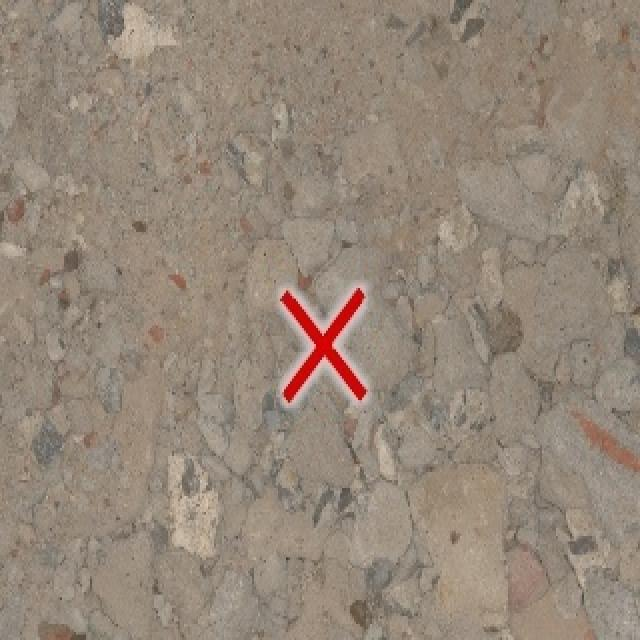x_marker: (281, 287, 365, 401)
